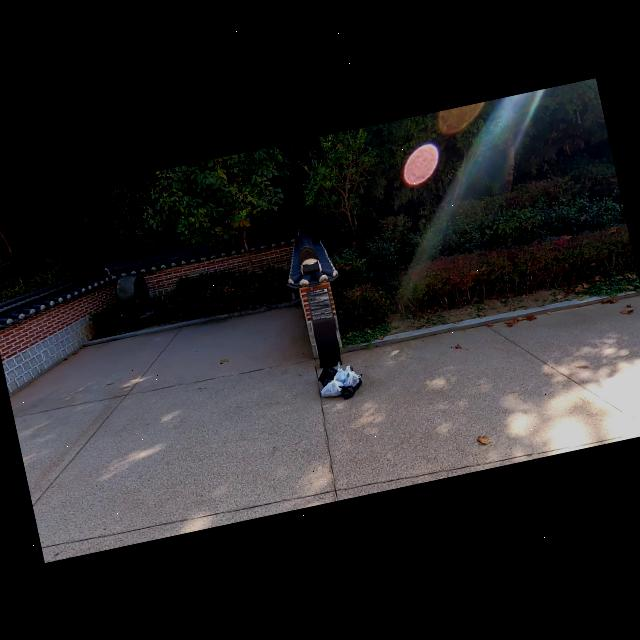trash: (312, 352, 345, 389), (314, 375, 347, 402), (328, 361, 354, 392), (339, 364, 362, 390), (336, 379, 361, 402)
